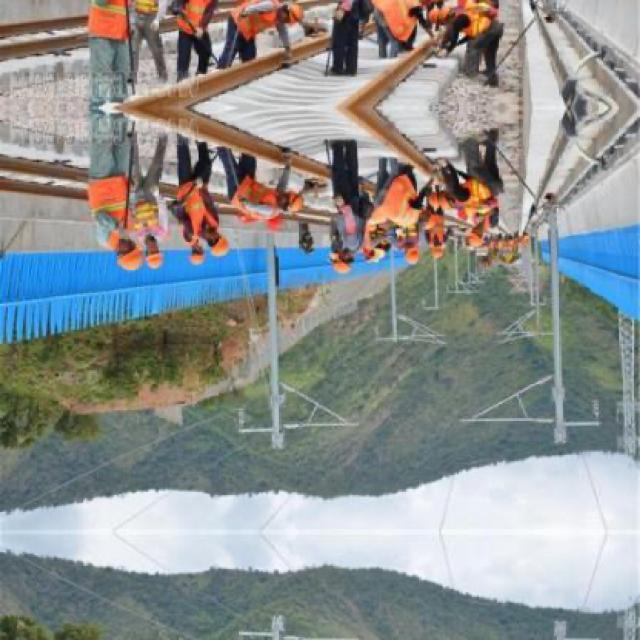con casco: (94, 226, 140, 286), (308, 249, 370, 290), (198, 214, 236, 269), (453, 209, 495, 256), (131, 234, 176, 275), (420, 223, 447, 266), (418, 170, 441, 208), (399, 231, 420, 271)
